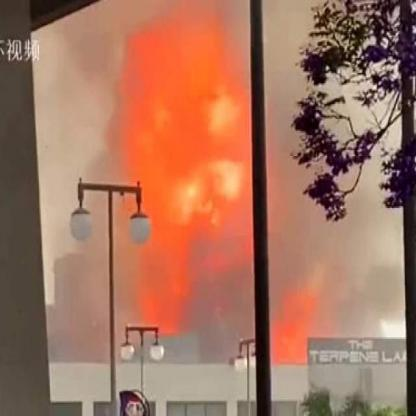fire: (127, 17, 250, 336)
